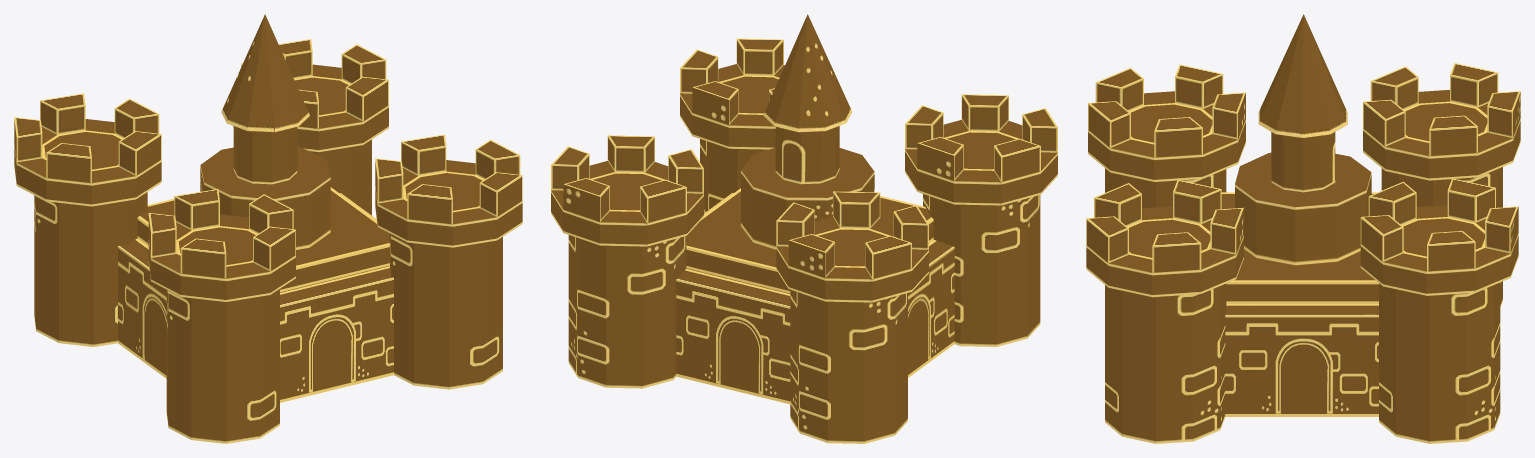
File: SandCastle.glb
3 views of the same model, side by side, from view 1: azimuth 30°, elevation 25°; view 2: azimuth 150°, elevation 25°; view 3: azimuth 270°, elevation 25° (orthographic). The views are drawn at different scales.
Visible parts, largest first — view 1: SandCastle; view 2: SandCastle; view 3: SandCastle.
Boxes of the visible parts, box(x1,y1,x2,y2) form: SandCastle: box(14, 14, 522, 443); SandCastle: box(551, 14, 1057, 443); SandCastle: box(1086, 14, 1520, 443).
Size of the model in its own units: 0.3793 by 0.3336 by 0.3801.
1 material, 1 textured.
